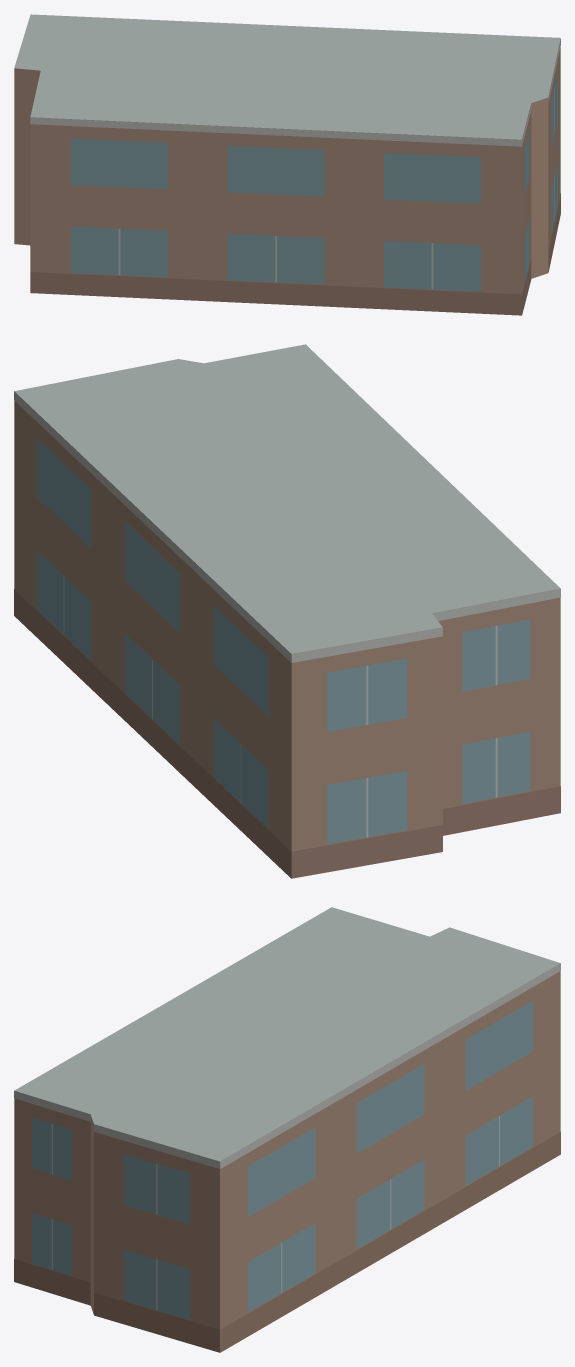
File: survey-upis-32555069.glb
3 views of the same model, one above another, from view 1: azimuth 30°, elevation 25°; view 2: azimuth 150°, elevation 25°; view 3: azimuth 270°, elevation 25° (orthographic). The views are drawn at different scales.
Parts seen in each view (by area): view 1: survey-upis-32555069.tmp; view 2: survey-upis-32555069.tmp; view 3: survey-upis-32555069.tmp.
Part boxes in pixels (<box>): survey-upis-32555069.tmp: <box>14,14,560,315</box>; survey-upis-32555069.tmp: <box>14,344,560,878</box>; survey-upis-32555069.tmp: <box>14,907,560,1352</box>.
Size of the model in its own units: 17.41 by 6.1 by 15.81.
